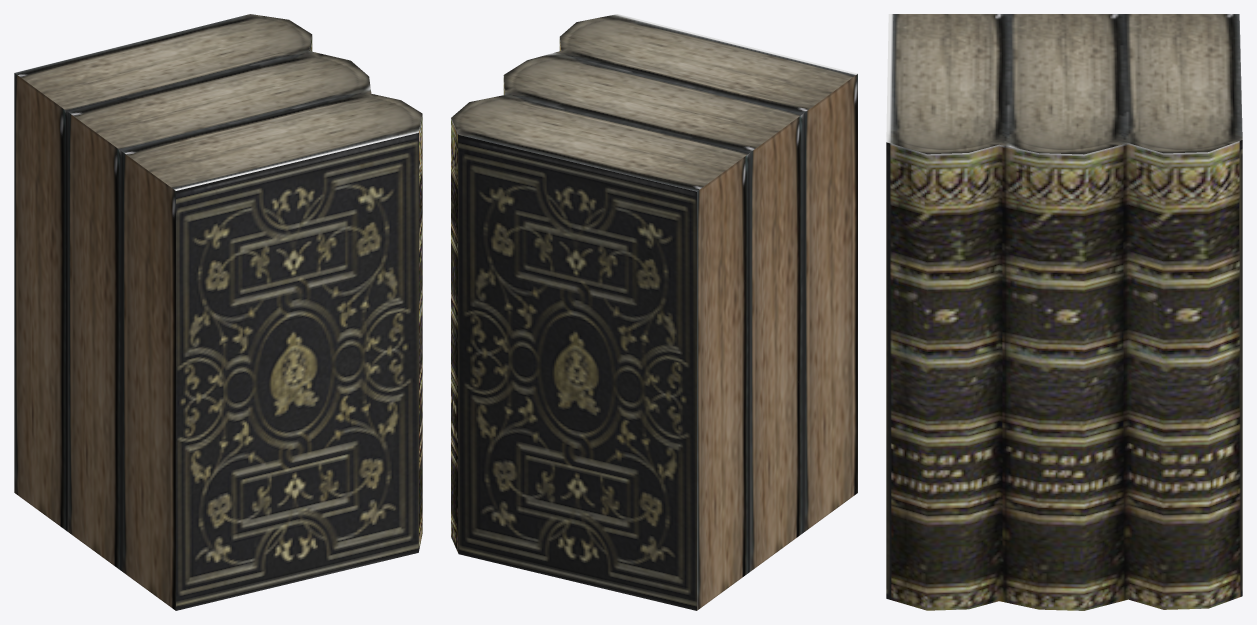
File: Prop_Sm_BookSet_2_A.fbx
3 renders of one model, left to right at view 1: azimuth 30°, elevation 25°; view 2: azimuth 150°, elevation 25°; view 3: azimuth 270°, elevation 25°, orthographic. The views are drawn at different scales.
Parts seen in each view (by area): view 1: Tomb_2_low_1:polySurface25; view 2: Tomb_2_low_1:polySurface25; view 3: Tomb_2_low_1:polySurface25.
Part boxes in pixels (x1,y1,x2,y2): Tomb_2_low_1:polySurface25: [14, 14, 422, 610]; Tomb_2_low_1:polySurface25: [451, 14, 857, 610]; Tomb_2_low_1:polySurface25: [886, 14, 1242, 610].
Size of the model in its own units: 0.2409 by 0.3649 by 0.2582.
